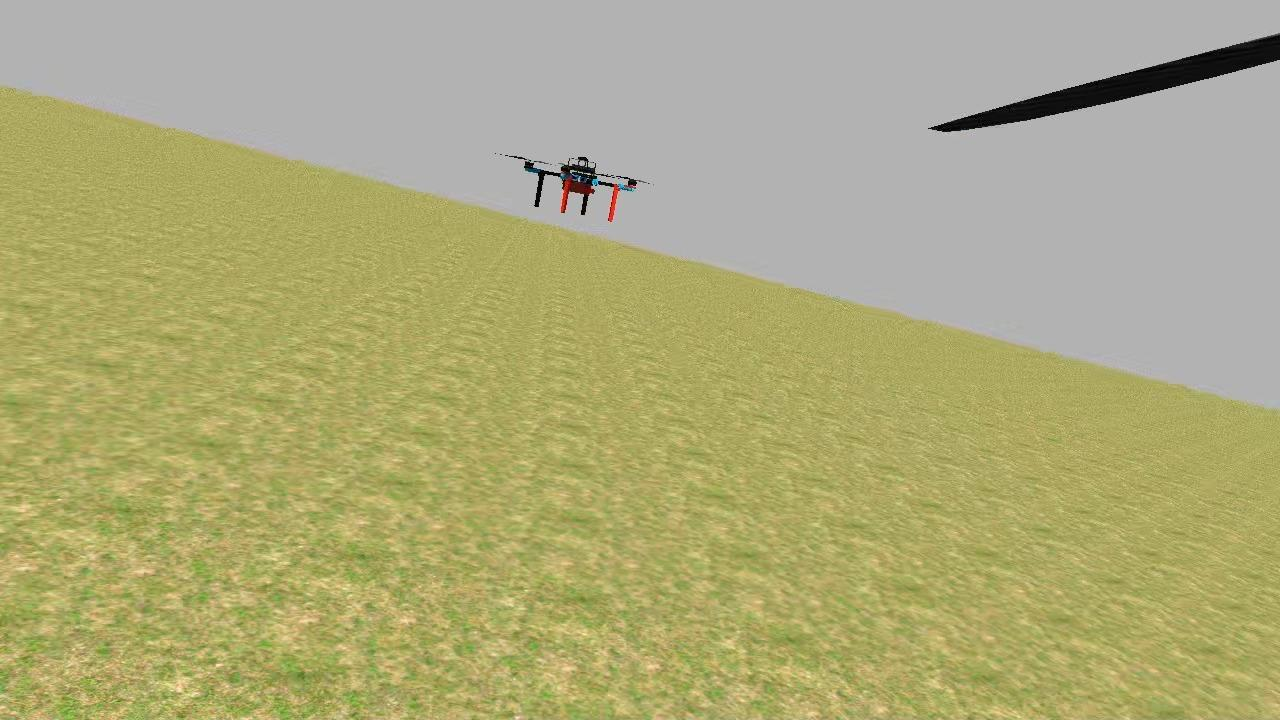UAV: (470, 134, 681, 242)
